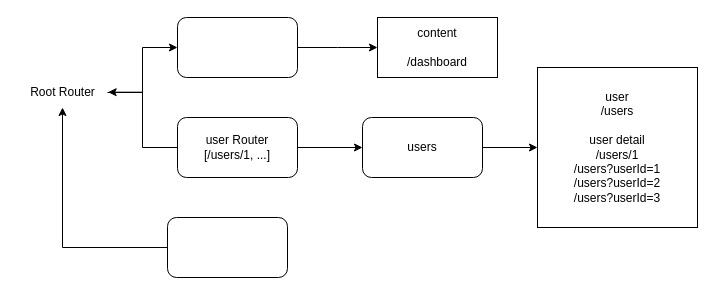
This 715x295 diagram has some shape labels left out. The shapes that lost their labels are listed below. From the top down, each one's box as (x1, y1, x2, y2) in pixels, then its label:
(176, 16, 298, 78): dashboard
(166, 216, 288, 278): 50 services
